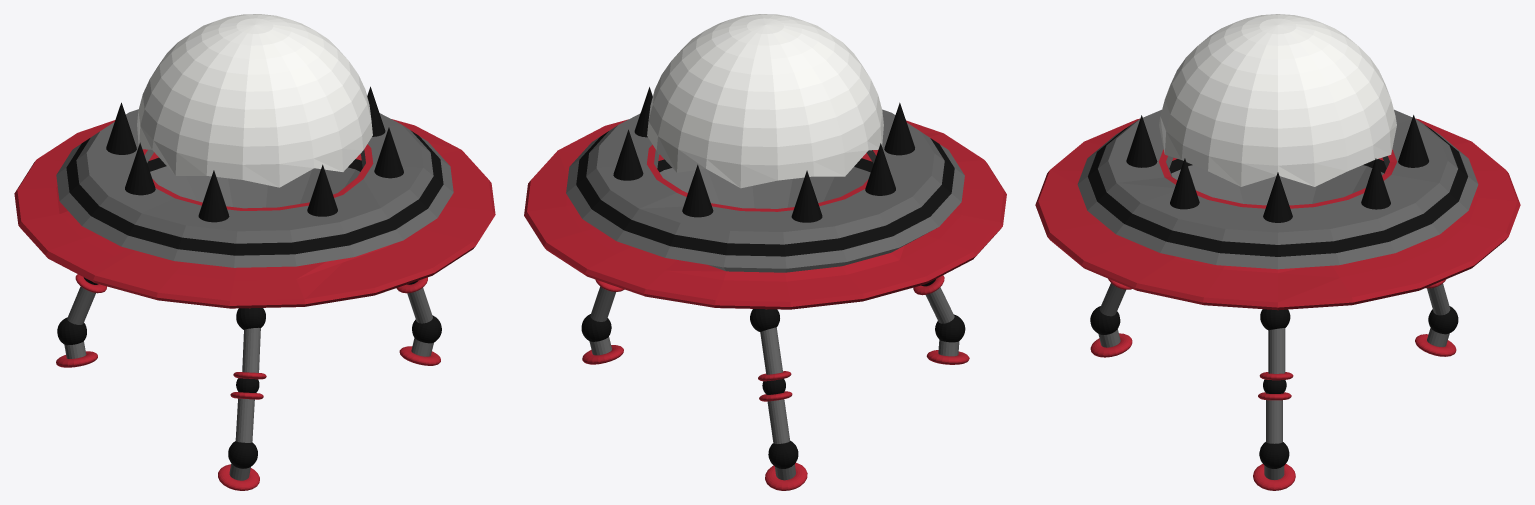
Rendered from sol6_t01.glb.
The picture shows the model from 3 angles, left to right: view 1: azimuth 30°, elevation 25°; view 2: azimuth 150°, elevation 25°; view 3: azimuth 270°, elevation 25°; orthographic projection.
Parts seen in each view (by area): view 1: slot_anchor_saucer, parachute_canopy, slot_legs; view 2: slot_anchor_saucer, parachute_canopy, slot_legs; view 3: slot_anchor_saucer, parachute_canopy, slot_legs.
Boxes of the visible parts, x1,y1,x2,y2 form: slot_anchor_saucer: (14,86,495,308); parachute_canopy: (137,14,372,187); slot_legs: (56,274,441,490); slot_anchor_saucer: (524,87,1006,309); parachute_canopy: (647,14,883,188); slot_legs: (581,275,969,490); slot_anchor_saucer: (1035,109,1520,310); parachute_canopy: (1159,14,1396,186); slot_legs: (1090,278,1458,490).
Bounding box in the file's own units: 2 × 1.72 × 2.
Materials: 2 (1 with a texture image).
